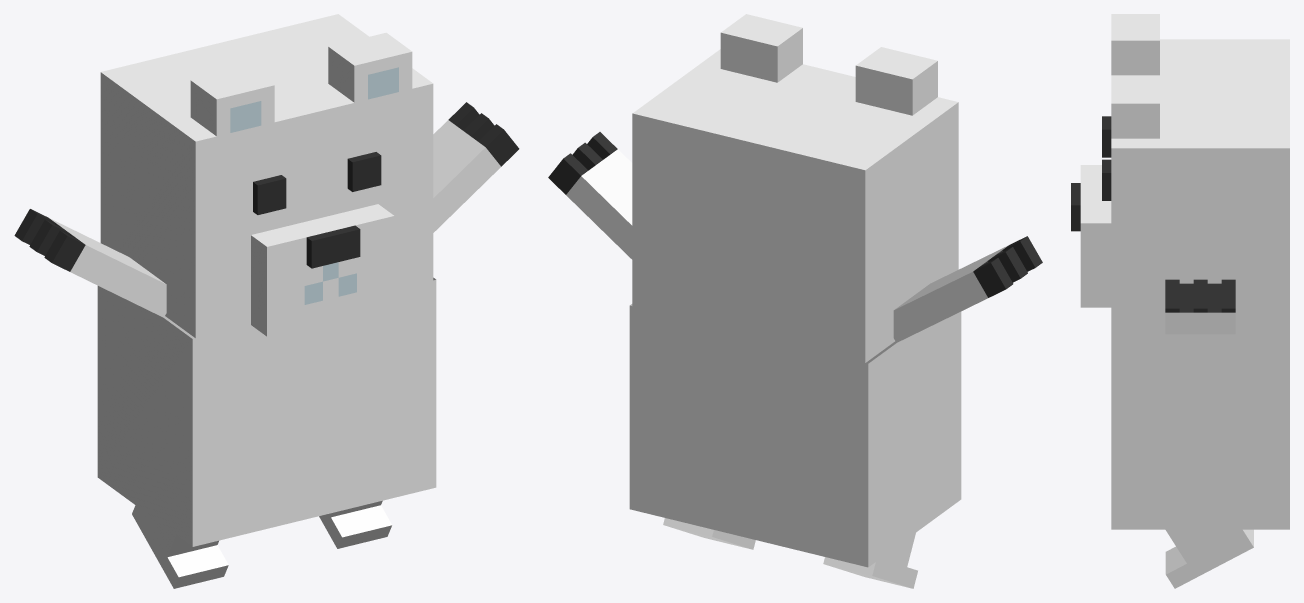
The model's file is Ch_08@Down.FBX.
The picture shows the model from 3 angles, left to right: view 1: azimuth 30°, elevation 25°; view 2: azimuth 150°, elevation 25°; view 3: azimuth 270°, elevation 25°; orthographic projection. The views are drawn at different scales.
Parts seen in each view (by area): view 1: Ch_08_Head, Ch_08, Ch_08_Hand_L, Ch_08_Hand_R, Ch_08_Leg_L, Ch_08_Eye_01, Ch_08_Leg_R; view 2: Ch_08_Head, Ch_08, Ch_08_Hand_L, Ch_08_Hand_R, Ch_08_Leg_L, Ch_08_Leg_R; view 3: Ch_08_Head, Ch_08, Ch_08_Hand_R, Ch_08_Leg_R, Ch_08_Eye_01.
Part boxes in pixels (x1,y1,x2,y2): Ch_08_Head: [100, 14, 433, 338]; Ch_08: [97, 277, 436, 546]; Ch_08_Hand_L: [14, 209, 166, 317]; Ch_08_Hand_R: [433, 102, 519, 232]; Ch_08_Leg_L: [132, 505, 228, 588]; Ch_08_Eye_01: [253, 152, 381, 214]; Ch_08_Leg_R: [319, 500, 392, 548]; Ch_08_Head: [632, 14, 958, 362]; Ch_08: [629, 304, 961, 567]; Ch_08_Hand_L: [893, 236, 1042, 342]; Ch_08_Hand_R: [548, 132, 632, 259]; Ch_08_Leg_L: [823, 533, 917, 588]; Ch_08_Leg_R: [663, 518, 755, 549]; Ch_08_Head: [1071, 14, 1289, 332]; Ch_08: [1111, 333, 1289, 529]; Ch_08_Hand_R: [1165, 279, 1235, 334]; Ch_08_Leg_R: [1165, 529, 1253, 588]; Ch_08_Eye_01: [1102, 116, 1111, 200].
Size of the model in its own units: 12.39 by 12.97 by 5.34.
